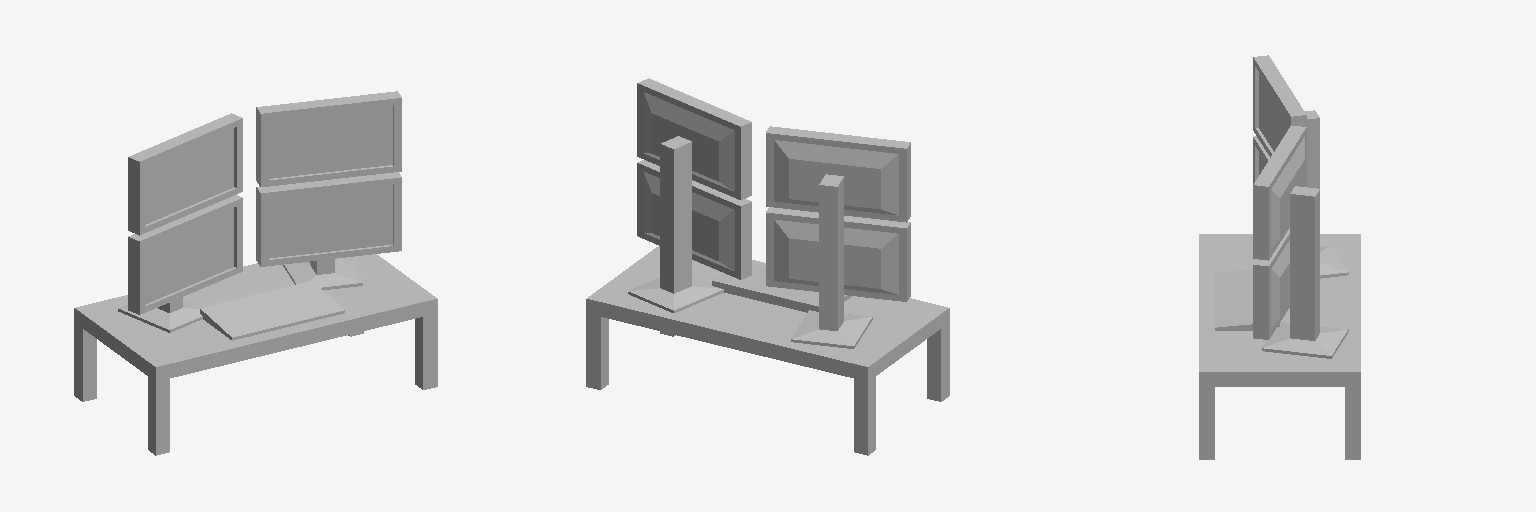
File: console.obj
The picture shows the model from 3 angles: view 1: azimuth 30°, elevation 25°; view 2: azimuth 150°, elevation 25°; view 3: azimuth 270°, elevation 25°; orthographic projection.
Parts seen in each view (by area): view 1: Box06; view 2: Box06; view 3: Box06.
Part boxes in pixels (x1,y1,x2,y2): Box06: (74,91,437,455); Box06: (586,78,949,455); Box06: (1199,55,1360,459).
Size of the model in its own units: 1000 by 920 by 500.